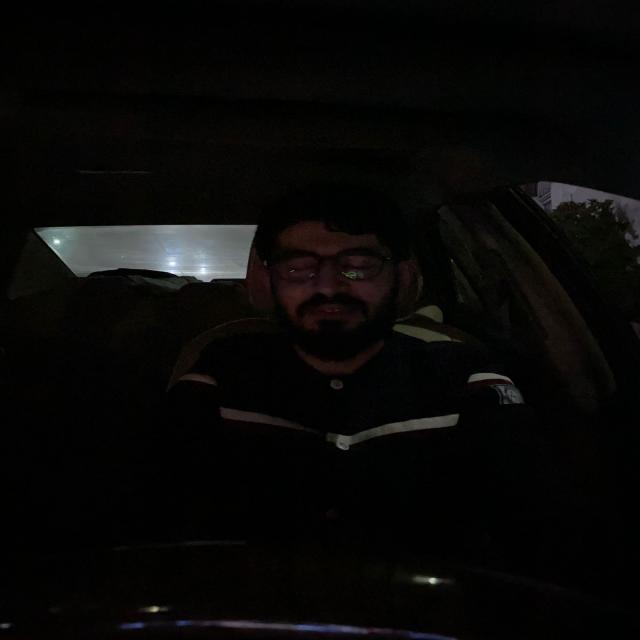drowsy: (247, 180, 433, 364)
